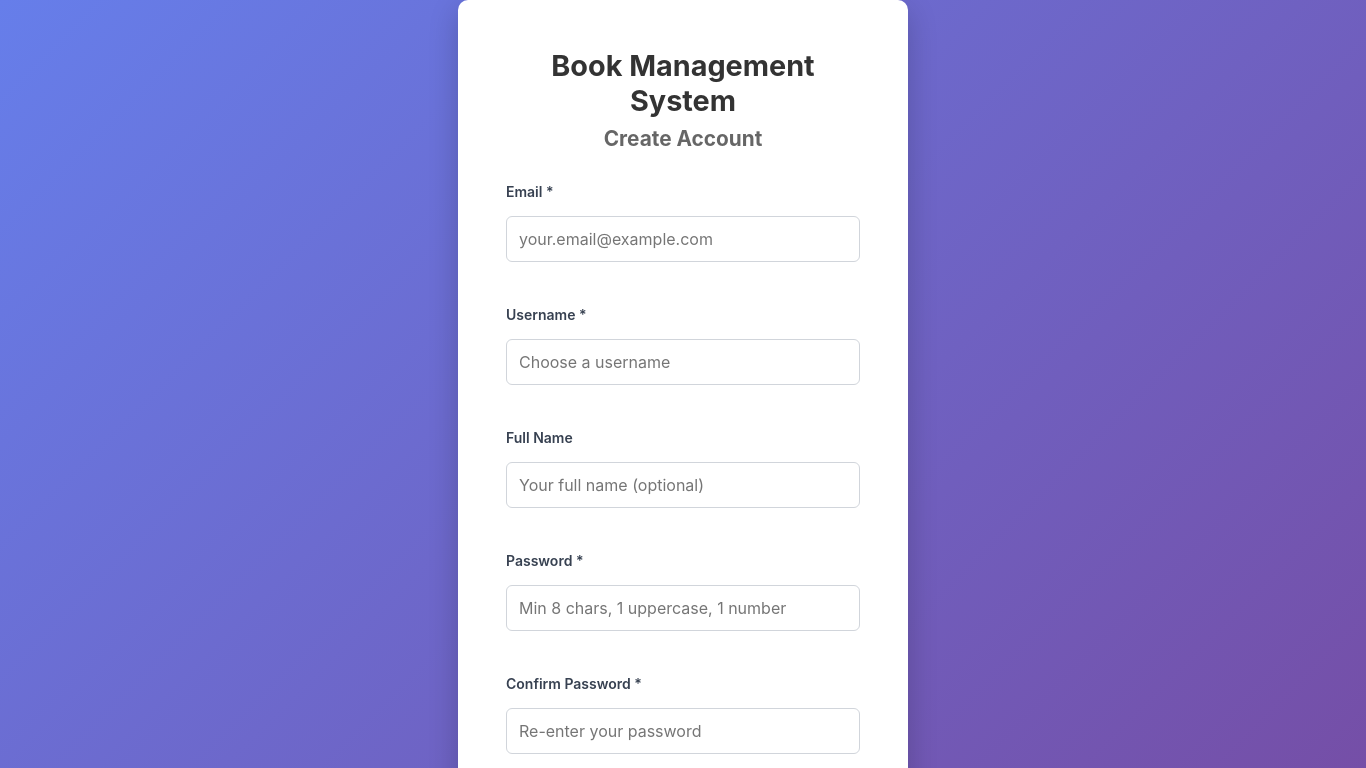
Test: Register Component › should validate password contains lowercase letter
The image size is (1366, 768).
Step 1. Type "test@example.com" into the field labelled "Email *" → [683, 239], box [506,216,860,262]
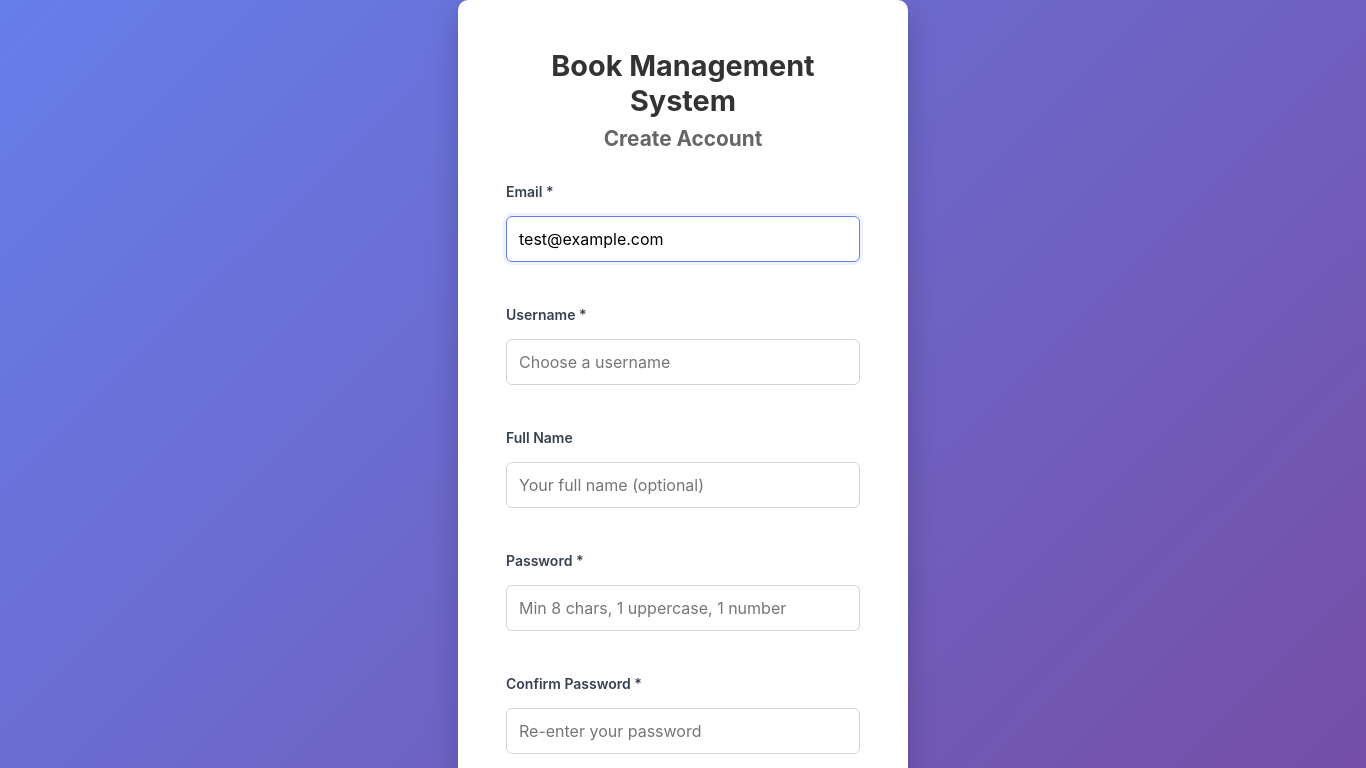
Step 2. Type "testuser" into the field labelled "Username *" → [683, 362], box [506,339,860,385]
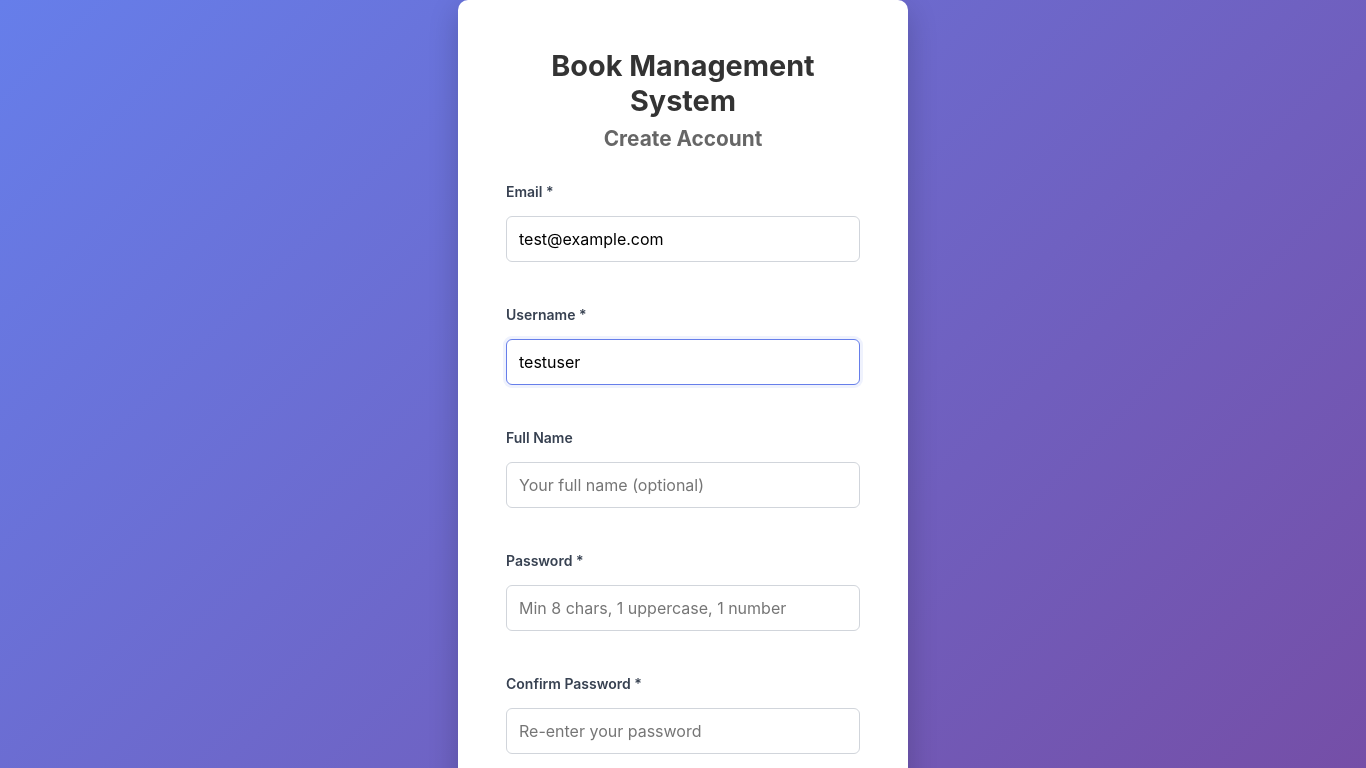
Step 3. Type "PASSWORD123" into the password field labelled "Password *" → [683, 608], box [506,585,860,631]
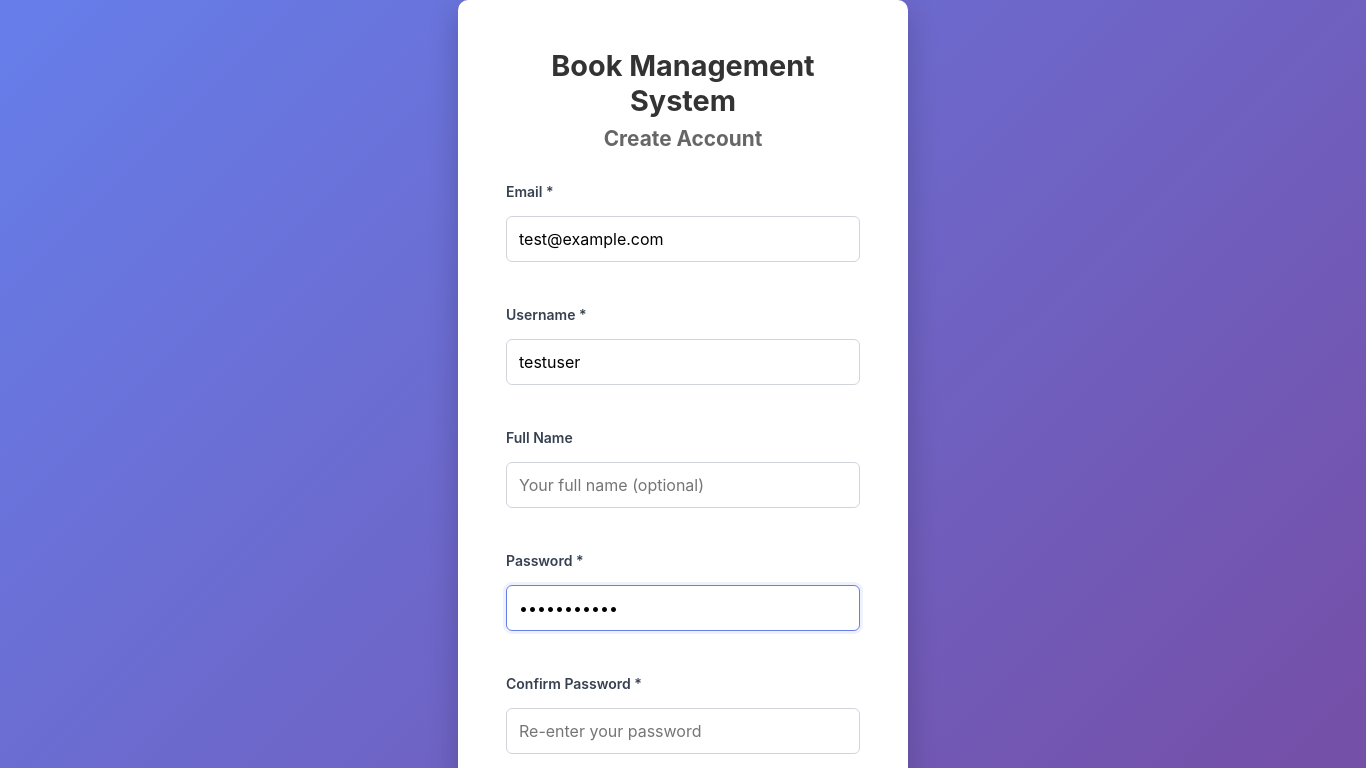
Step 4. Type "PASSWORD123" into the password field labelled "Confirm Password *" → [683, 731], box [506,708,860,754]
(page scrolled)
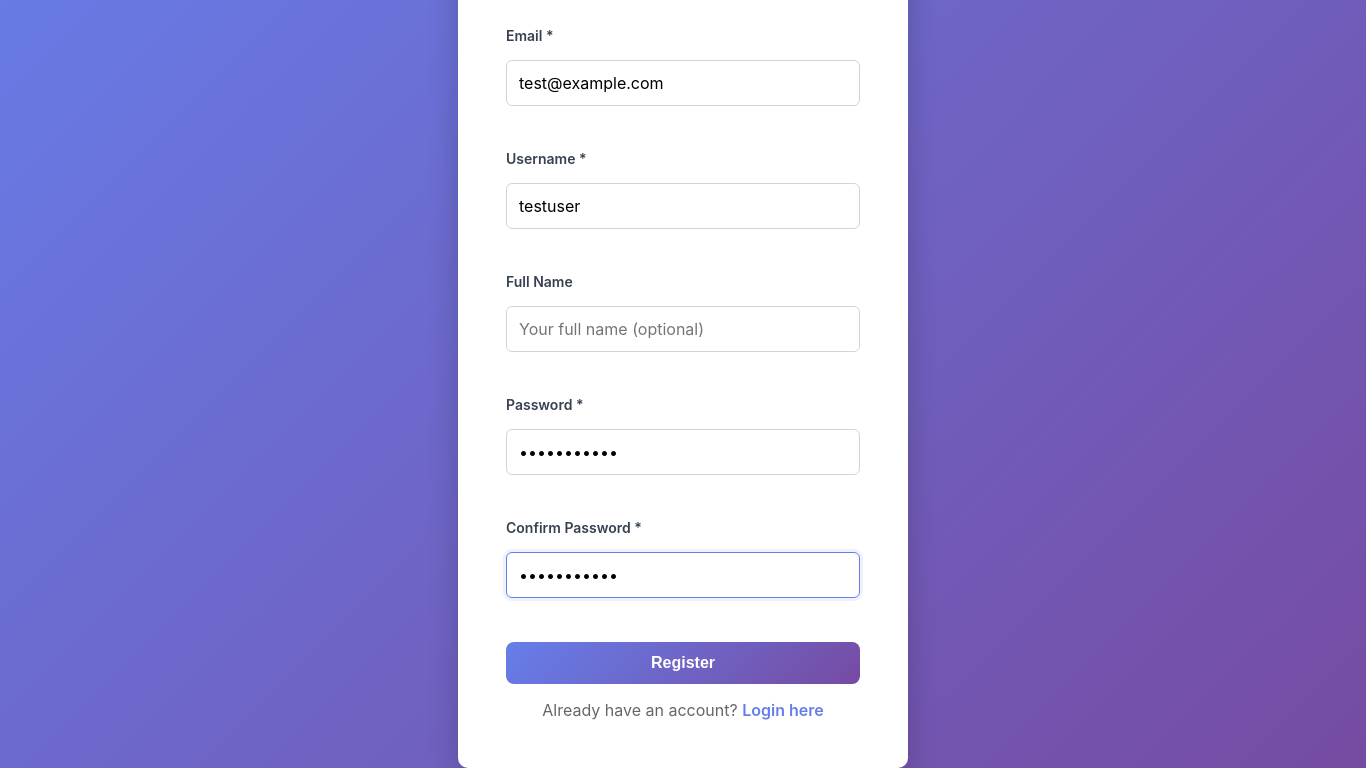
Step 5. Click the button "Register" → [683, 663], box [506,642,860,684]
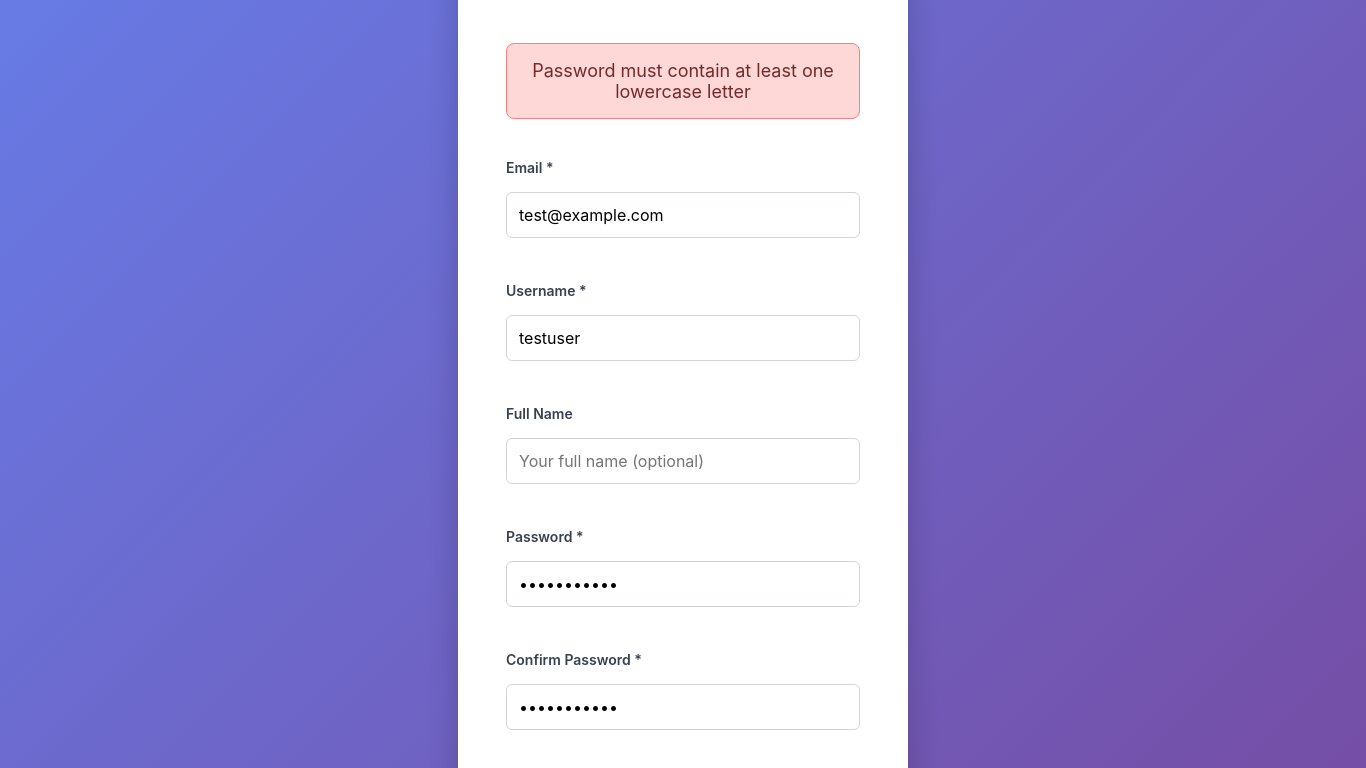
Expected: the text "Password must contain at least one lowercase letter" is shown, [506,43,860,119]
